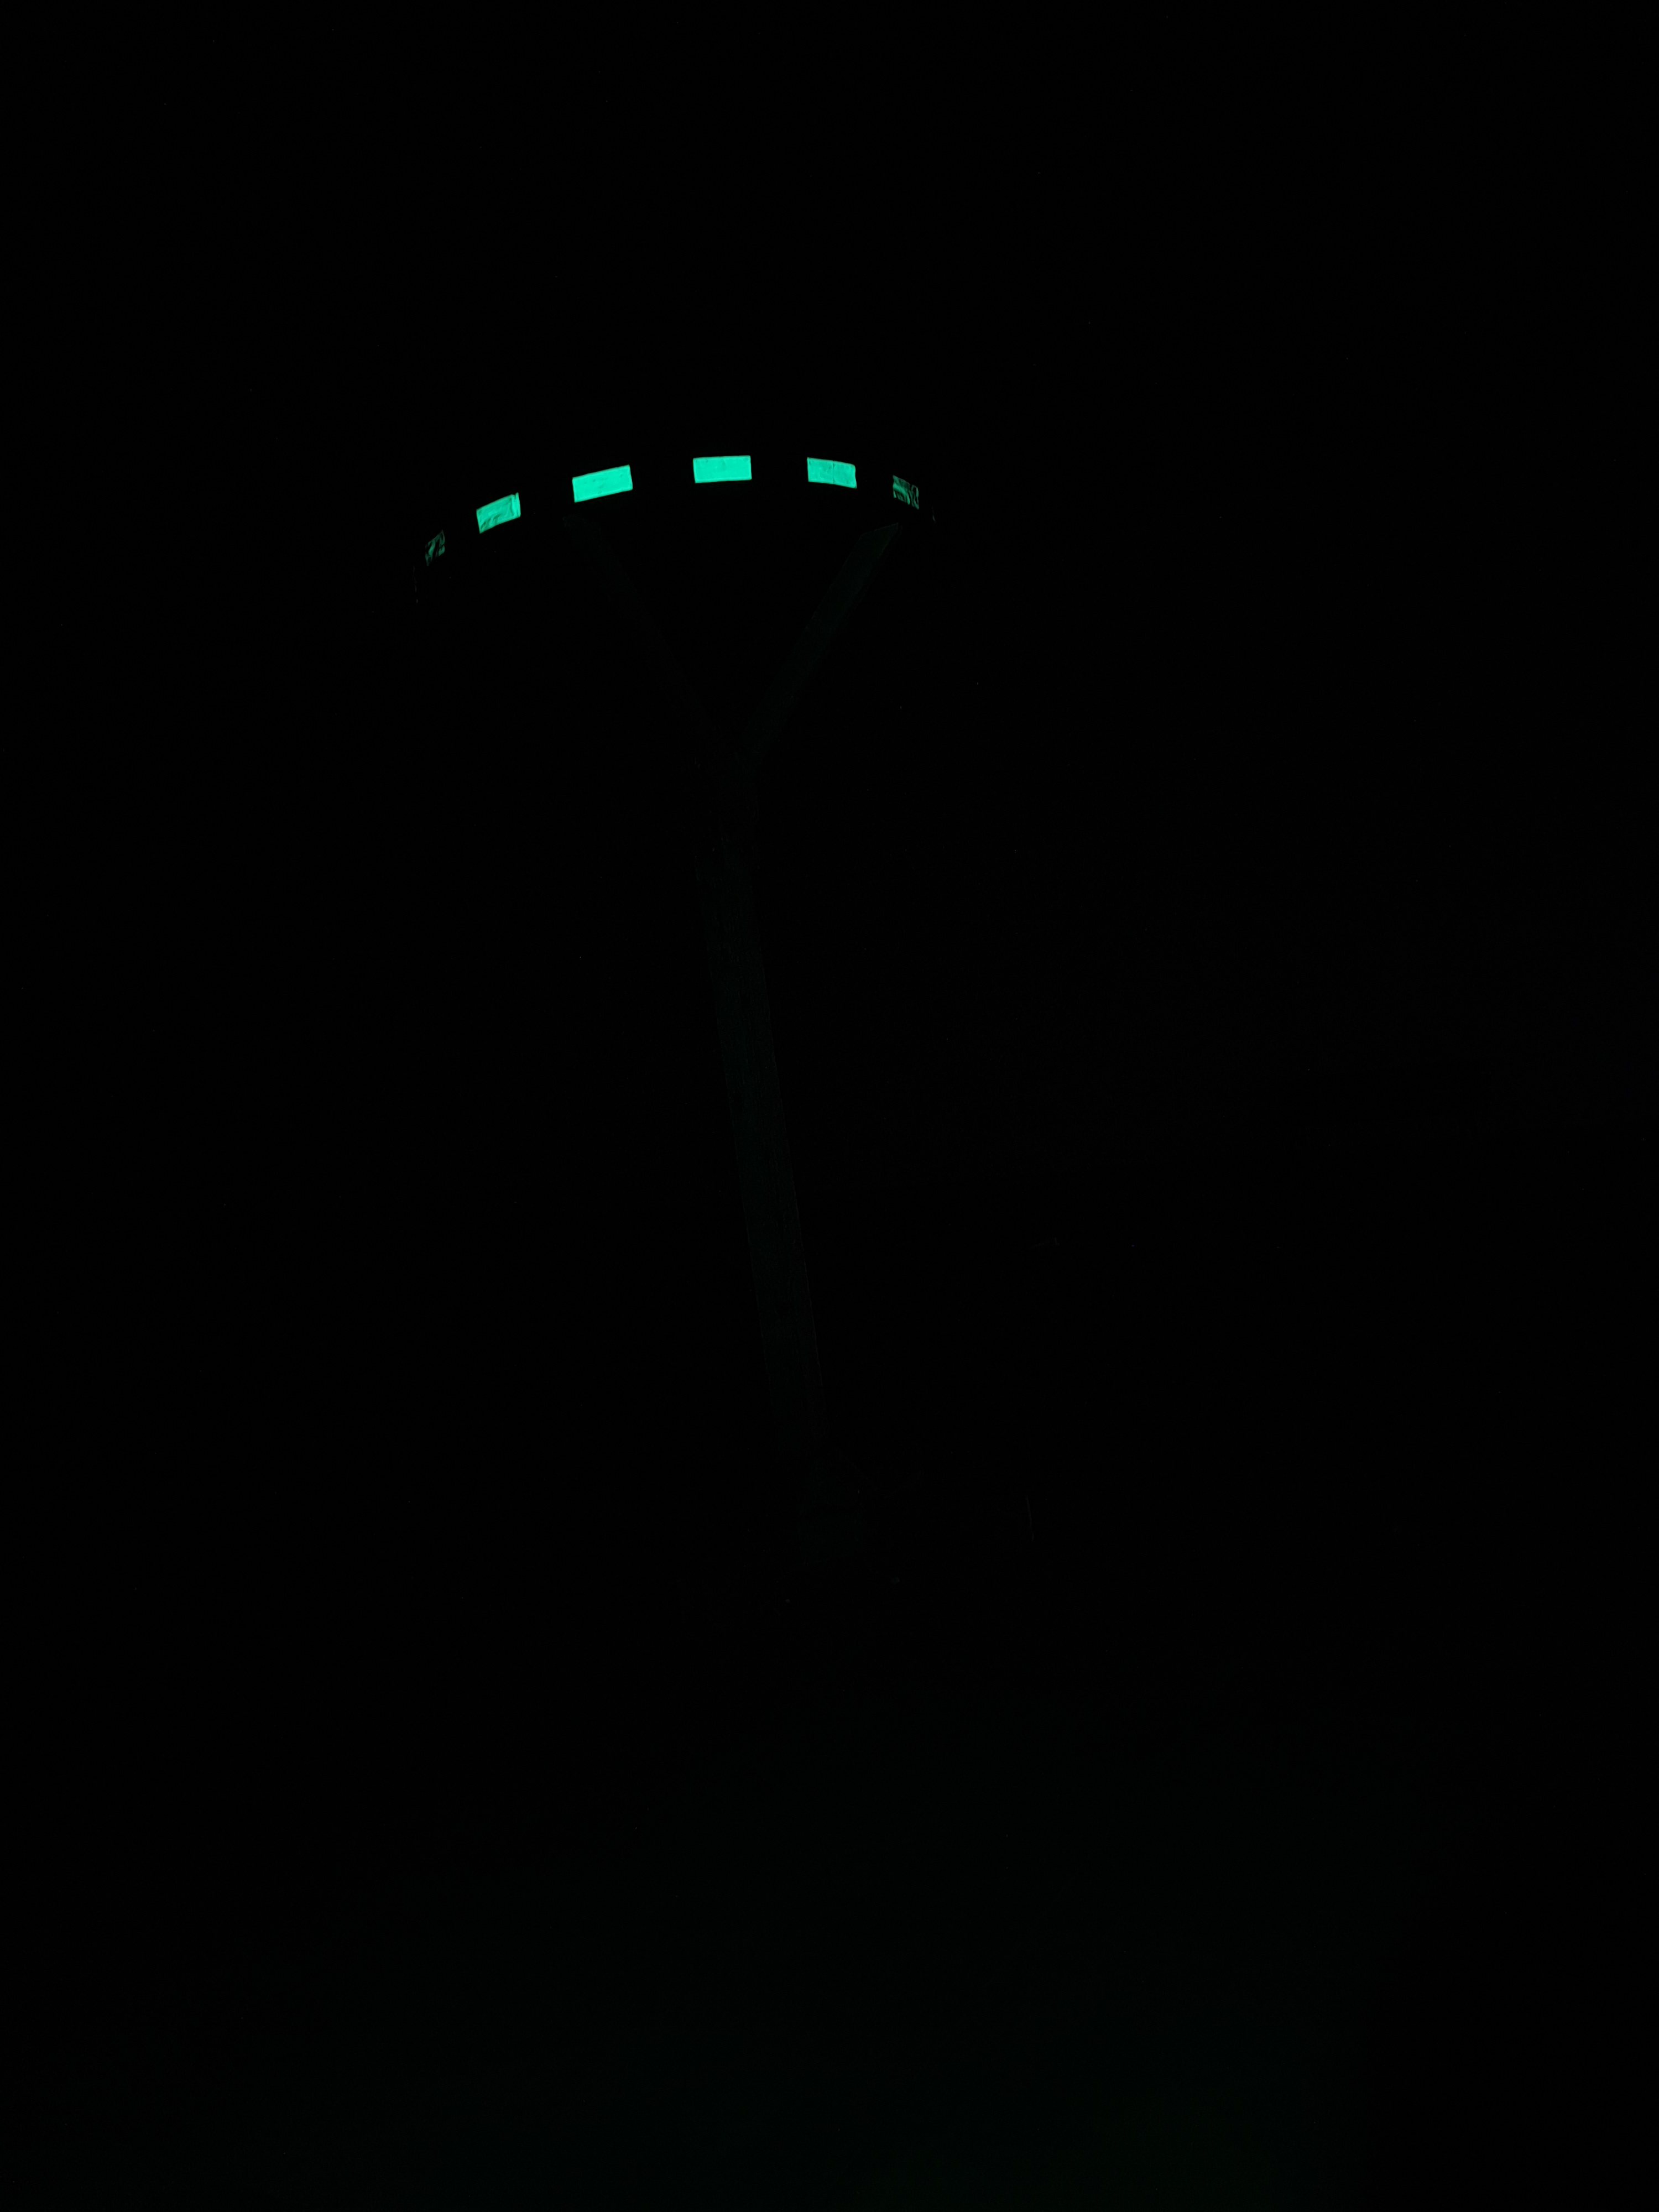hoop: (380, 448, 939, 583)
